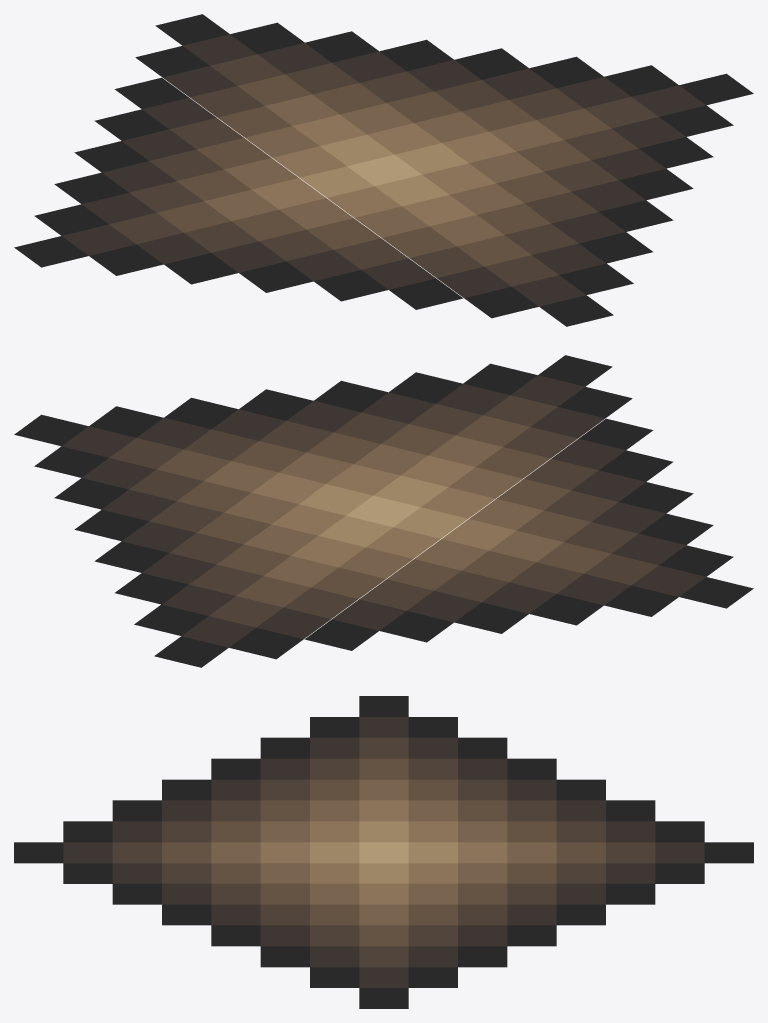
Rendered from light_level.obj.
3 renders of one model, top to bottom at view 1: azimuth 30°, elevation 25°; view 2: azimuth 150°, elevation 25°; view 3: azimuth 270°, elevation 25°, orthographic. The views are drawn at different scales.
Visible parts, largest first — view 1: plane; view 2: plane; view 3: plane.
Boxes of the visible parts, x1=… form: plane: x1=14, y1=14, x2=753, y2=326; plane: x1=14, y1=355, x2=753, y2=667; plane: x1=14, y1=696, x2=753, y2=1008.
Bounding box in the file's own units: 15 × 0 × 15.
